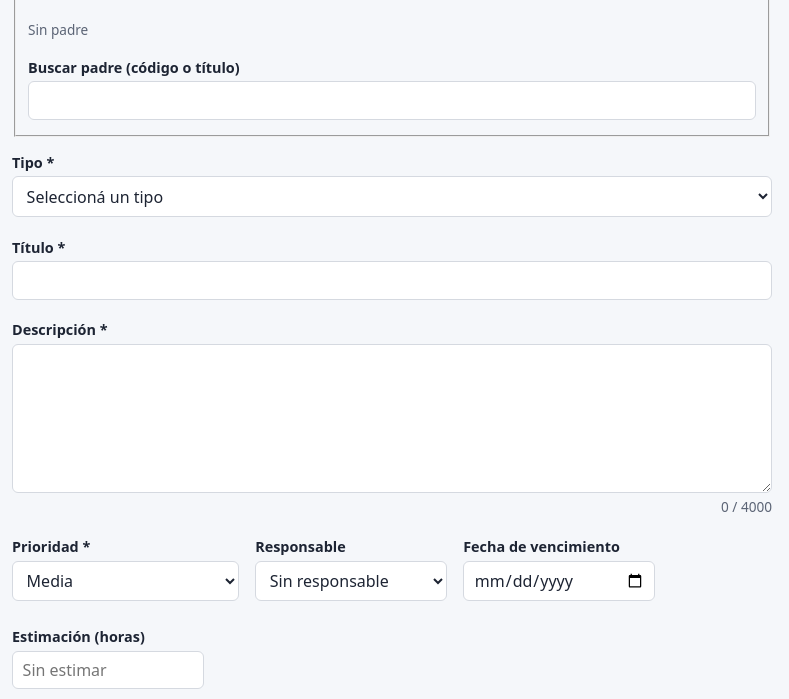
it: IncidenciaFormComponent › Estimación (RF-005) › estimación 10000000 muestra "La estimación no puede superar 9.999.999,99 horas."
The width and height of the screenshot is (789, 699).
In the number field with id "incidencia-estimacion": (108, 670) [12,651,204,689], type "10000000"
(page scrolled)
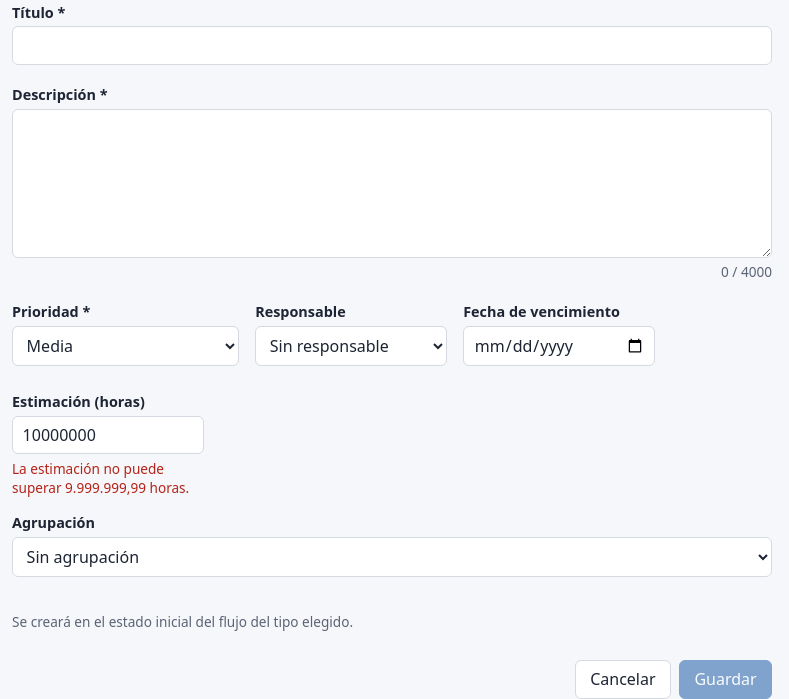
expect the text "La estimación no puede superar 9.999.999,99 horas." is shown: met, box [12,459,204,497]
